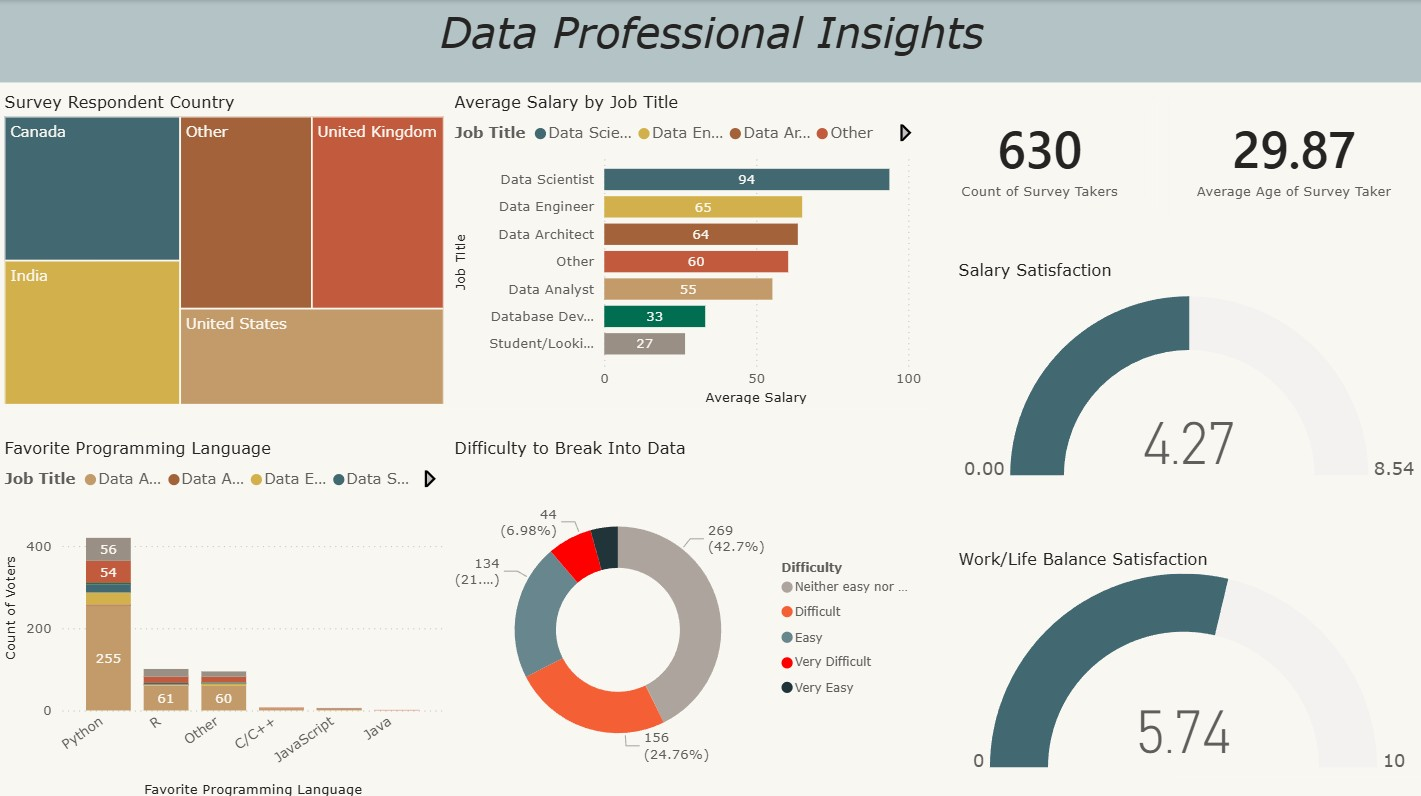

The page's visual inventory and layout, read from the dashboard file:
{"tool":"powerbi","page":{"name":"Page 1","canvas":[1280,720],"ordinal":0},"visuals":[{"type":"textbox","box":[0,0,1280.2,73.5],"z":0},{"type":"cardVisual","fields":{"Data":["CountNonNull(Data Professional Survey.Unique ID)"]},"box":[823.1,81.5,222,116.2],"z":1000},{"type":"cardVisual","fields":{"Data":["Avg(Data Professional Survey.Q10 - Current Age)"]},"box":[1045.1,81.5,235,116.2],"z":2000},{"type":"barChart","title":"Average Salary by Job Title","fields":{"Category":["Data Professional Survey.Q1 - Which Title Best Fits your Current Role?.1"],"Y":["Avg(Data Professional Survey.Average Salary)"],"Series":["Data Professional Survey.Q1 - Which Title Best Fits your Current Role?.1"]},"box":[404.2,81.5,429.3,286.2],"z":3000},{"type":"columnChart","title":"Favorite Programming Language","fields":{"Category":["Data Professional Survey.Q5 - Favorite Programming Language.1"],"Y":["CountNonNull(Data Professional Survey.Unique ID)"],"Series":["Data Professional Survey.Q1 - Which Title Best Fits your Current Role?.1"]},"box":[0,392,404.2,327.8],"z":4000},{"type":"treemap","title":"Survey Respondent Country","fields":{"Group":["Data Professional Survey.Q11 - Which Country do you live in?.1"],"Values":["Count(Data Professional Survey.Q11 - Which Country do you live in?.1)"]},"box":[0,81.5,404.2,286.2],"z":5000},{"type":"gauge","title":" Work/Life Balance Satisfaction","fields":{"Y":["Avg(Data Professional Survey.Q6 - How Happy are you in your Current Position with the following? (Work/Life Balance))"],"MinValue":["Min(Data Professional Survey.Q6 - How Happy are you in your Current Position with the following? (Work/Life Balance))1"],"MaxValue":["Max(Data Professional Survey.Q6 - How Happy are you in your Current Position with the following? (Work/Life Balance))2"]},"box":[856.1,491.8,424.1,206.4],"z":6000},{"type":"gauge","title":"Salary Satisfaction","fields":{"Y":["Avg(Data Professional Survey.Q6 - How Happy are you in your Current Position with the following? (Salary))"]},"box":[856.1,232.4,424.1,214.2],"z":7000},{"type":"donutChart","title":"Difficulty to Break Into Data","fields":{"Category":["Data Professional Survey.Q7 - How difficult was it for you to break into Data?"],"Y":["CountNonNull(Data Professional Survey.Q7 - How difficult was it for you to break into Data?)"]},"box":[404.2,392,429.3,327.8],"z":7001}]}

Visuals, with their boxes in screenshot pixels (x1, y1, x2, y2), scaled from the page's 1280x720 canvas onto the 1421x796 screenshot:
textbox: 0, 0, 1420, 81
cardVisual - CountNonNull(Data Professional Survey.Unique ID): 914, 90, 1160, 219
cardVisual - Avg(Data Professional Survey.Q10 - Current Age): 1160, 90, 1420, 219
"Average Salary by Job Title" barChart: 449, 90, 925, 407
"Favorite Programming Language" columnChart: 0, 433, 449, 795
"Survey Respondent Country" treemap: 0, 90, 449, 407
" Work/Life Balance Satisfaction" gauge: 950, 544, 1420, 772
"Salary Satisfaction" gauge: 950, 257, 1420, 494
"Difficulty to Break Into Data" donutChart: 449, 433, 925, 795
